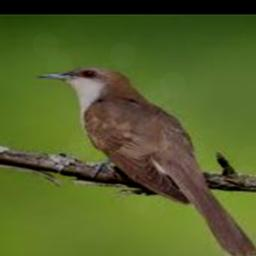Cuckoo: (36, 67, 256, 256)
